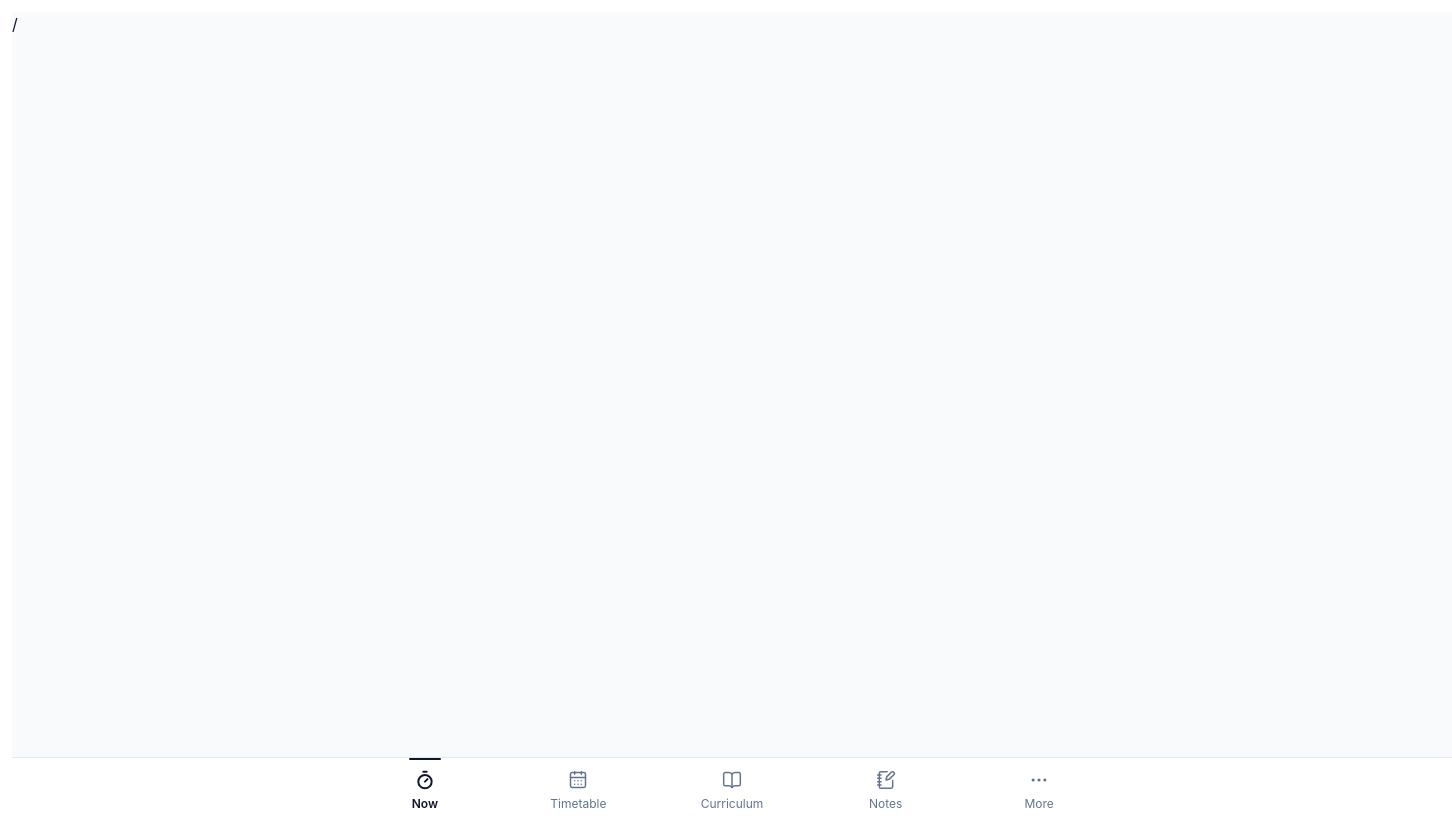
it: bottom nav "More" menu › opens, closes on Escape, and closes after navigating
Click the button "More". click: (1039, 790)
box: [962,758,1116,821]
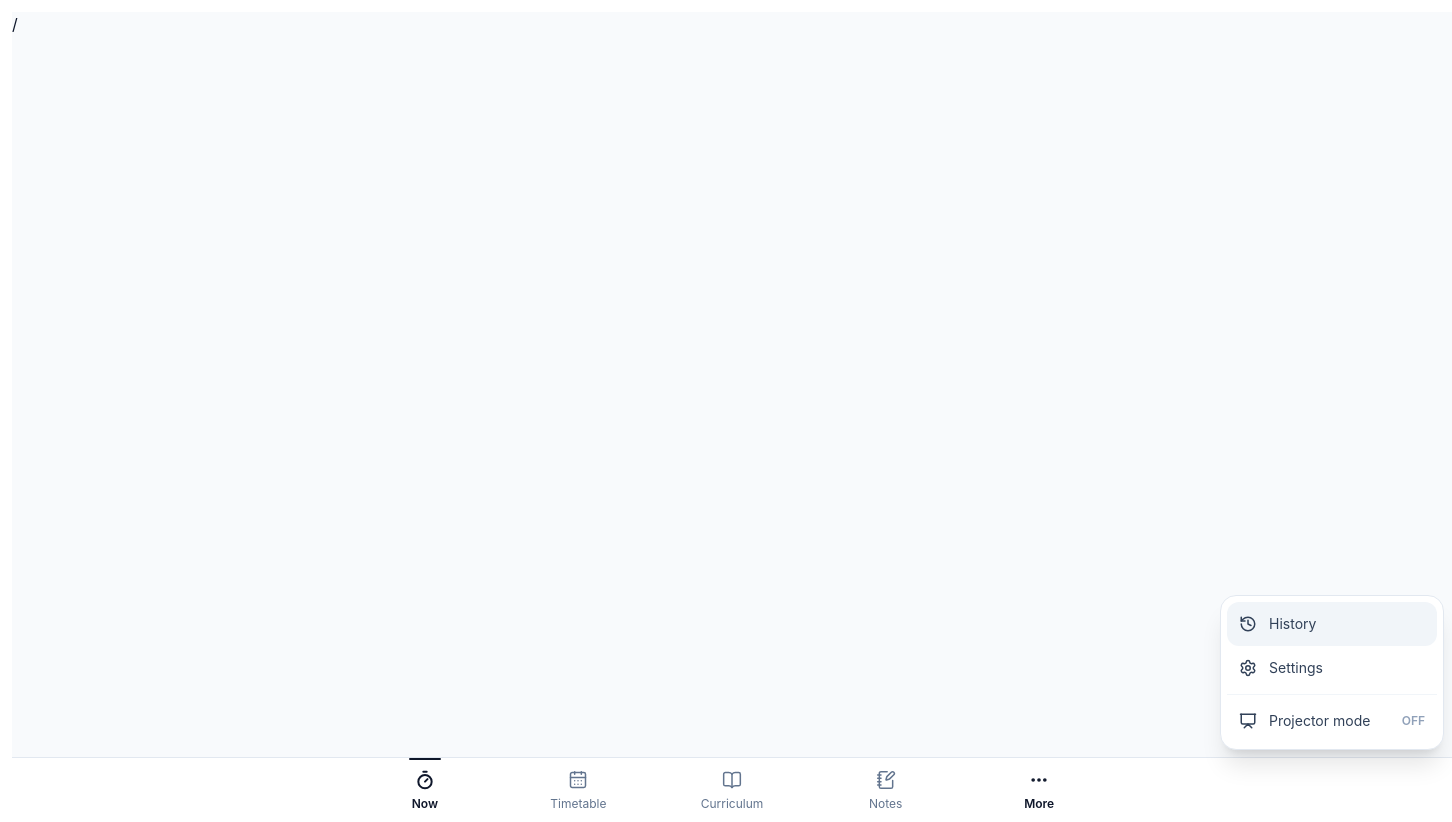
Expected: the button "More" is expanded, [962,758,1116,821]
Expected: the link "History" is shown, [1227,602,1437,646]
Expected: the link "Settings" is shown, [1239,659,1323,677]
Press Escape
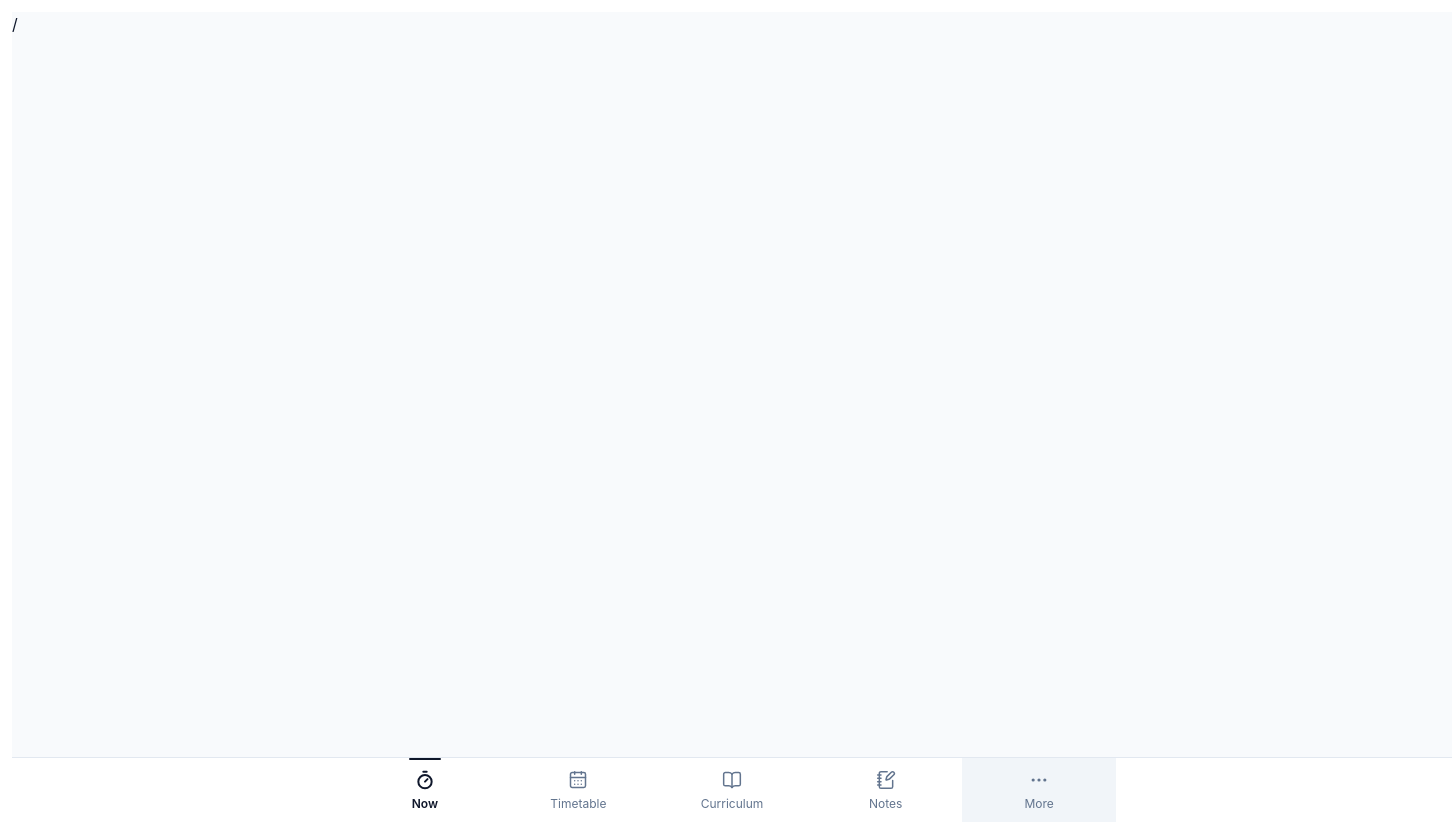
Expected: the link "History" is gone
Click the button "More". click: (1039, 790)
box: [962,758,1116,821]
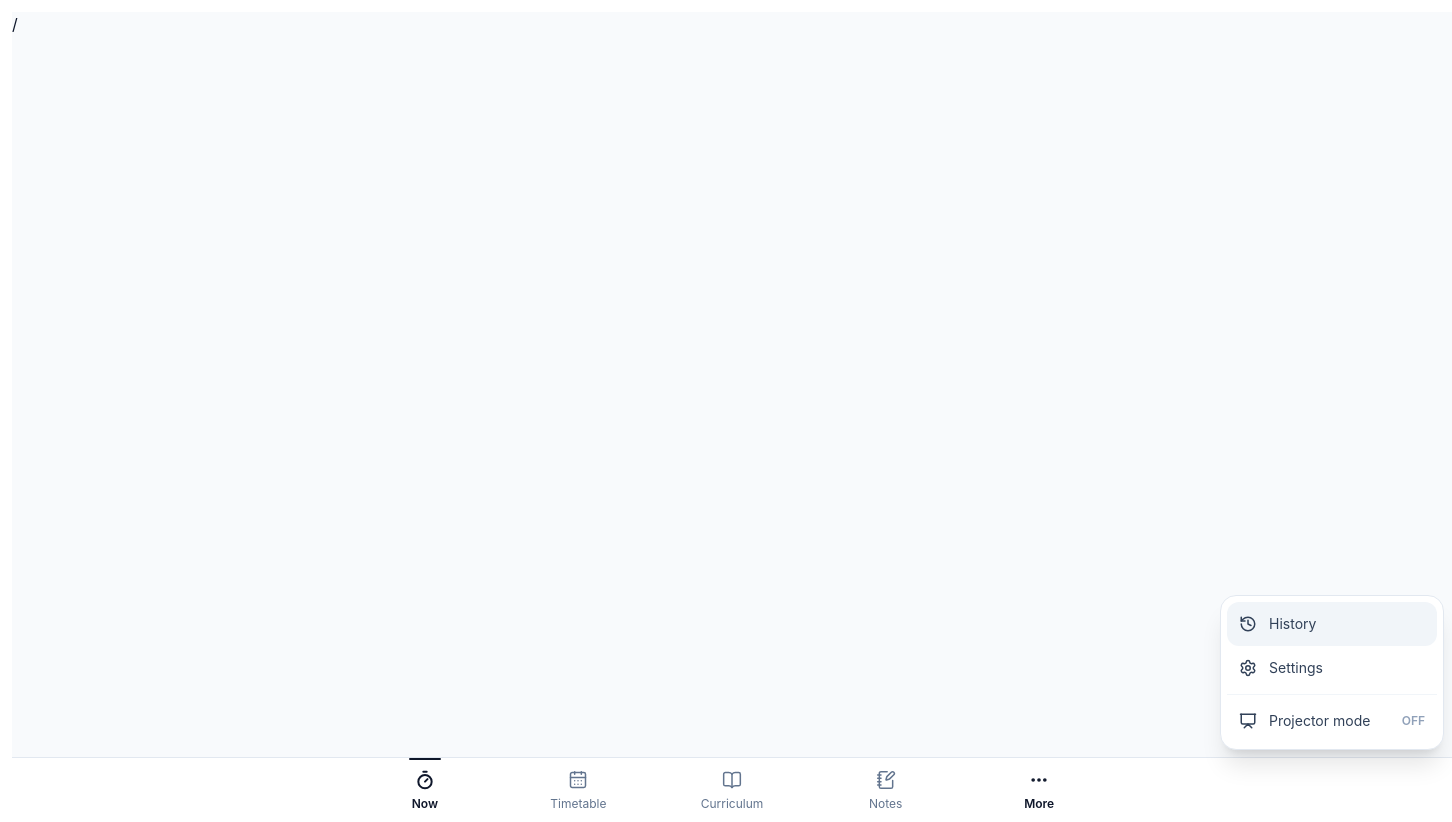
Click the link "History". click: (1332, 624)
box: [1227,602,1437,646]
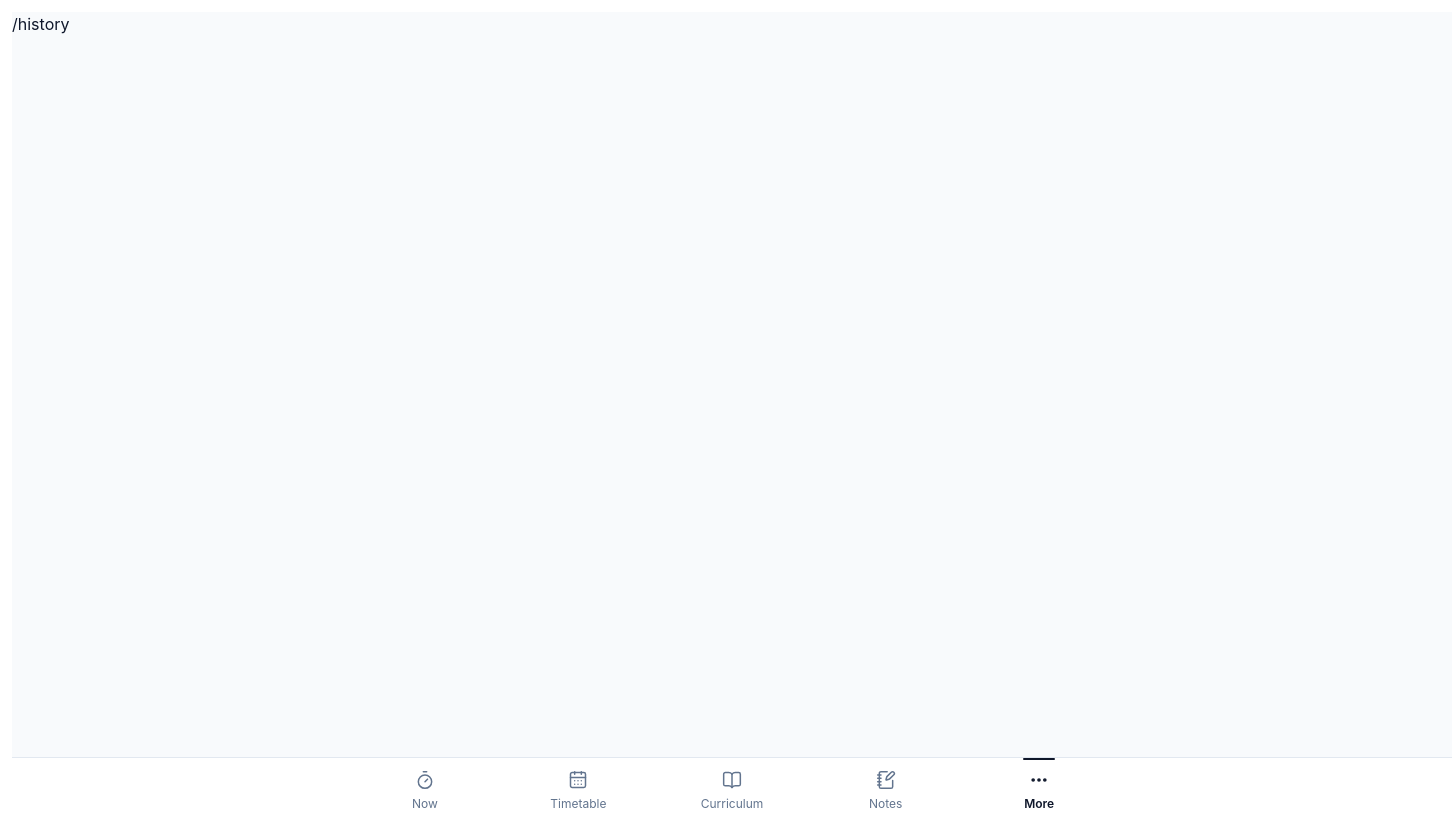
Expected: the text with test id "where" reads "/history", [12,14,70,34]
Expected: the link "Settings" is gone
